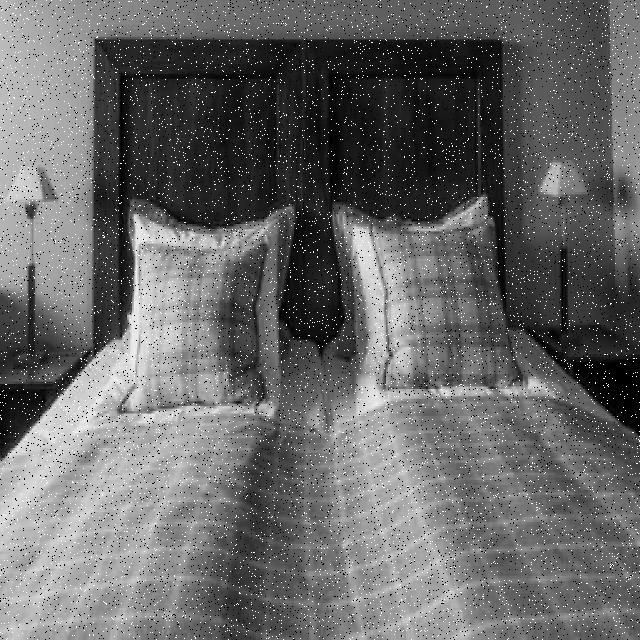bed: (0, 177, 632, 640)
